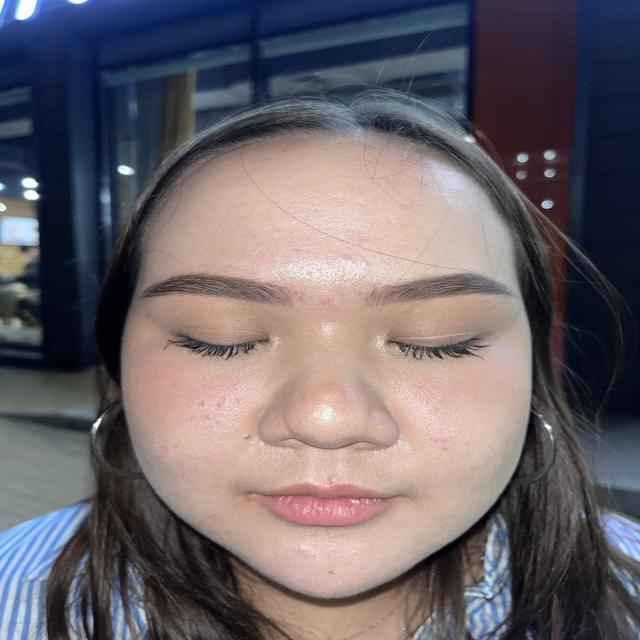acne: (293, 544, 312, 557), (318, 297, 335, 307), (231, 397, 249, 404), (202, 413, 216, 420), (215, 402, 226, 409)
nodules: (326, 476, 339, 484)
